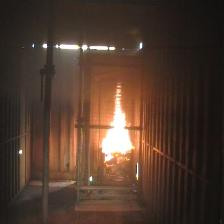fire: (101, 84, 136, 161)
